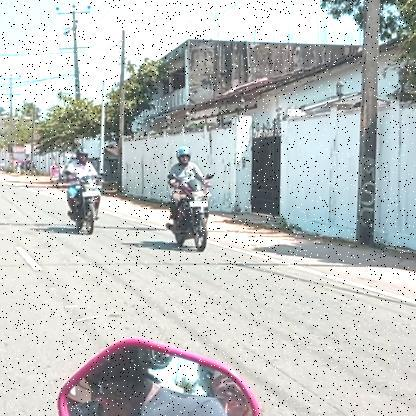motorcycle: (164, 178, 218, 256), (63, 176, 105, 238)
